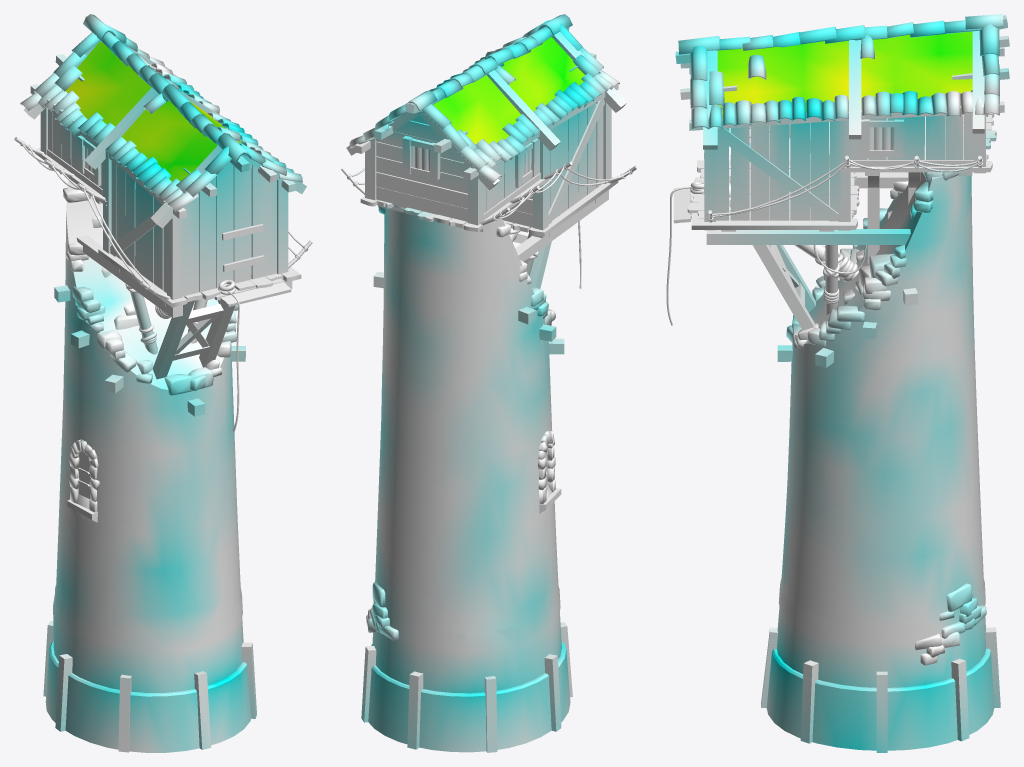
File: SM_WindMill_SM_WindMill.FBX
3 renders of one model, left to right at view 1: azimuth 30°, elevation 25°; view 2: azimuth 150°, elevation 25°; view 3: azimuth 270°, elevation 25°, orthographic. The views are drawn at different scales.
Visible parts, largest first — view 1: SM_WindMill_SM_WindMill_LOD0; view 2: SM_WindMill_SM_WindMill_LOD0; view 3: SM_WindMill_SM_WindMill_LOD0.
Part boxes in pixels (x1=…): SM_WindMill_SM_WindMill_LOD0: x1=14, y1=14, x2=312, y2=752; SM_WindMill_SM_WindMill_LOD0: x1=341, y1=14, x2=637, y2=752; SM_WindMill_SM_WindMill_LOD0: x1=666, y1=14, x2=1009, y2=752.
Size of the model in its own units: 672 by 1032 by 2295.
